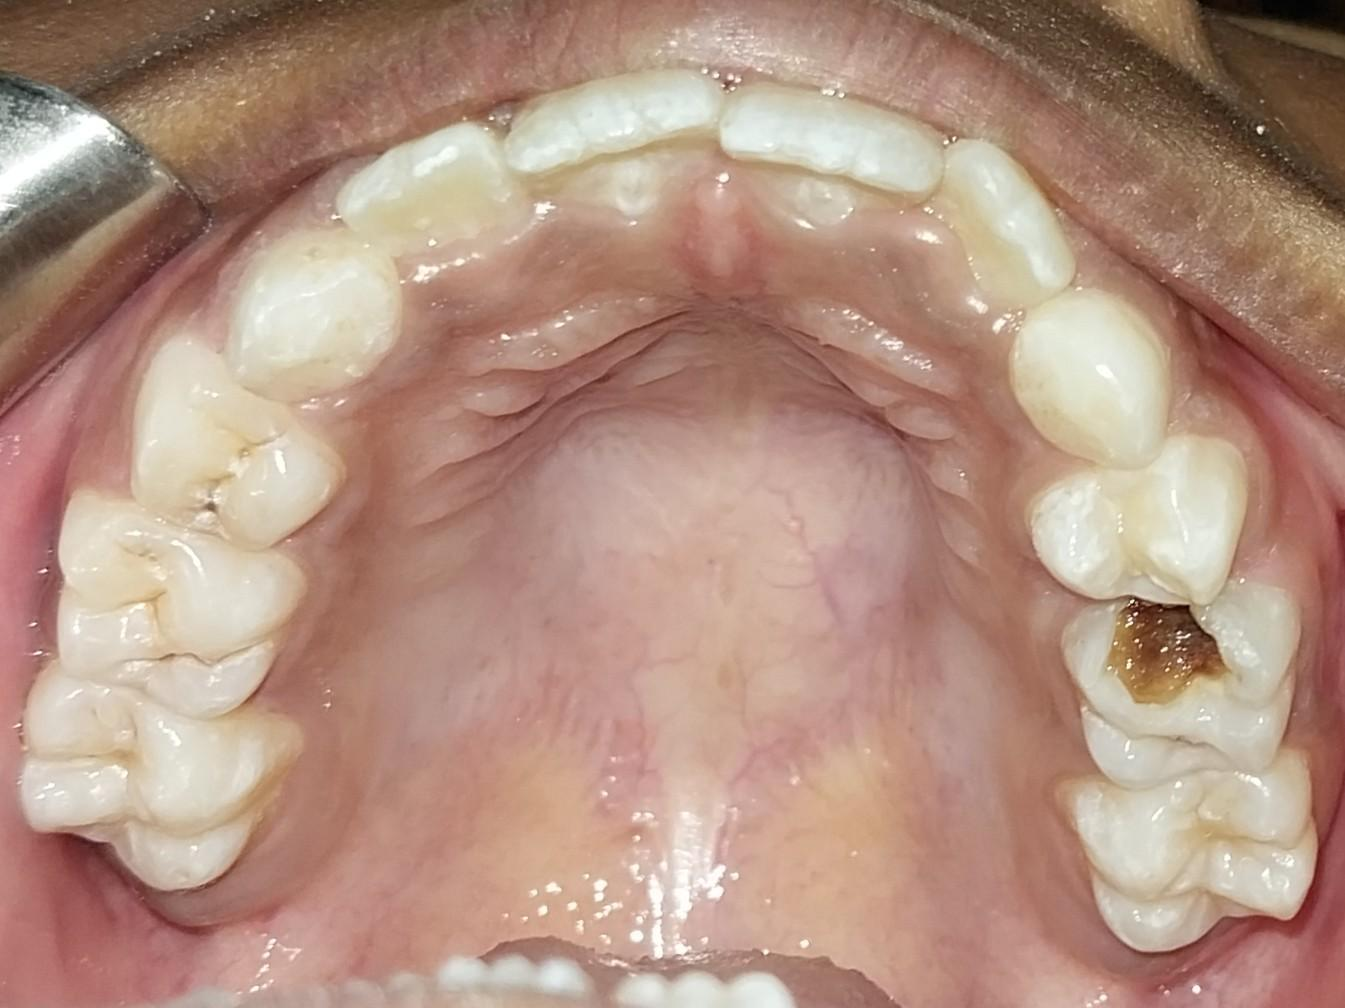d: (1054, 598, 1298, 790), (133, 343, 338, 553)
